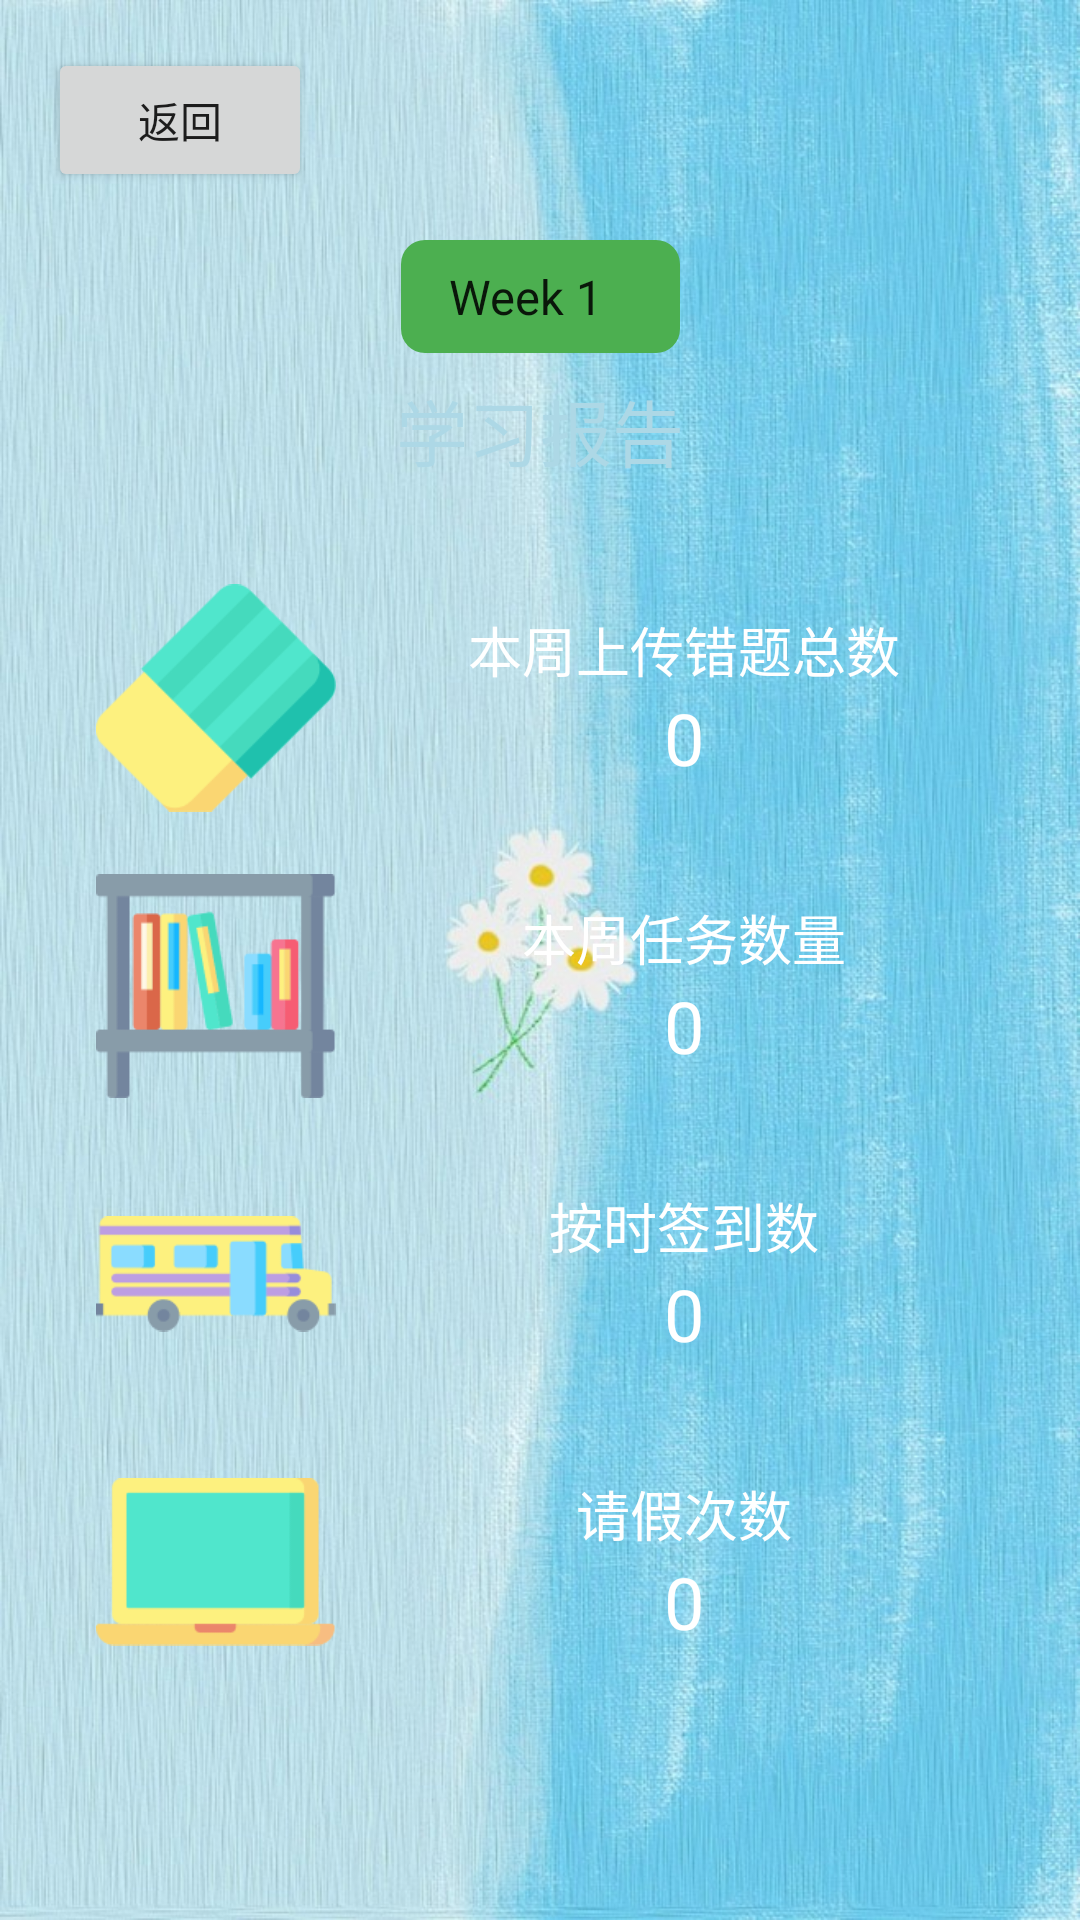

Icon click points for this 1080px x 1920px phone screenshot, format (x,y):
Wrong Questions: (216,701)
